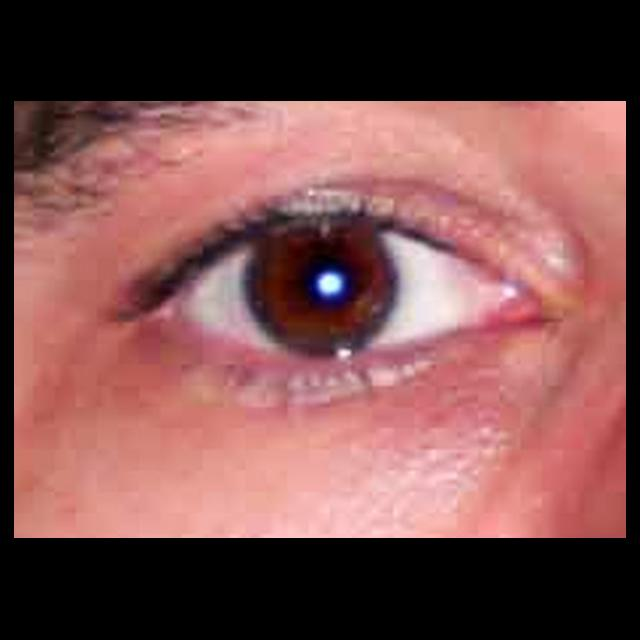eye: (183, 231, 495, 354)
iris: (248, 237, 397, 348)
